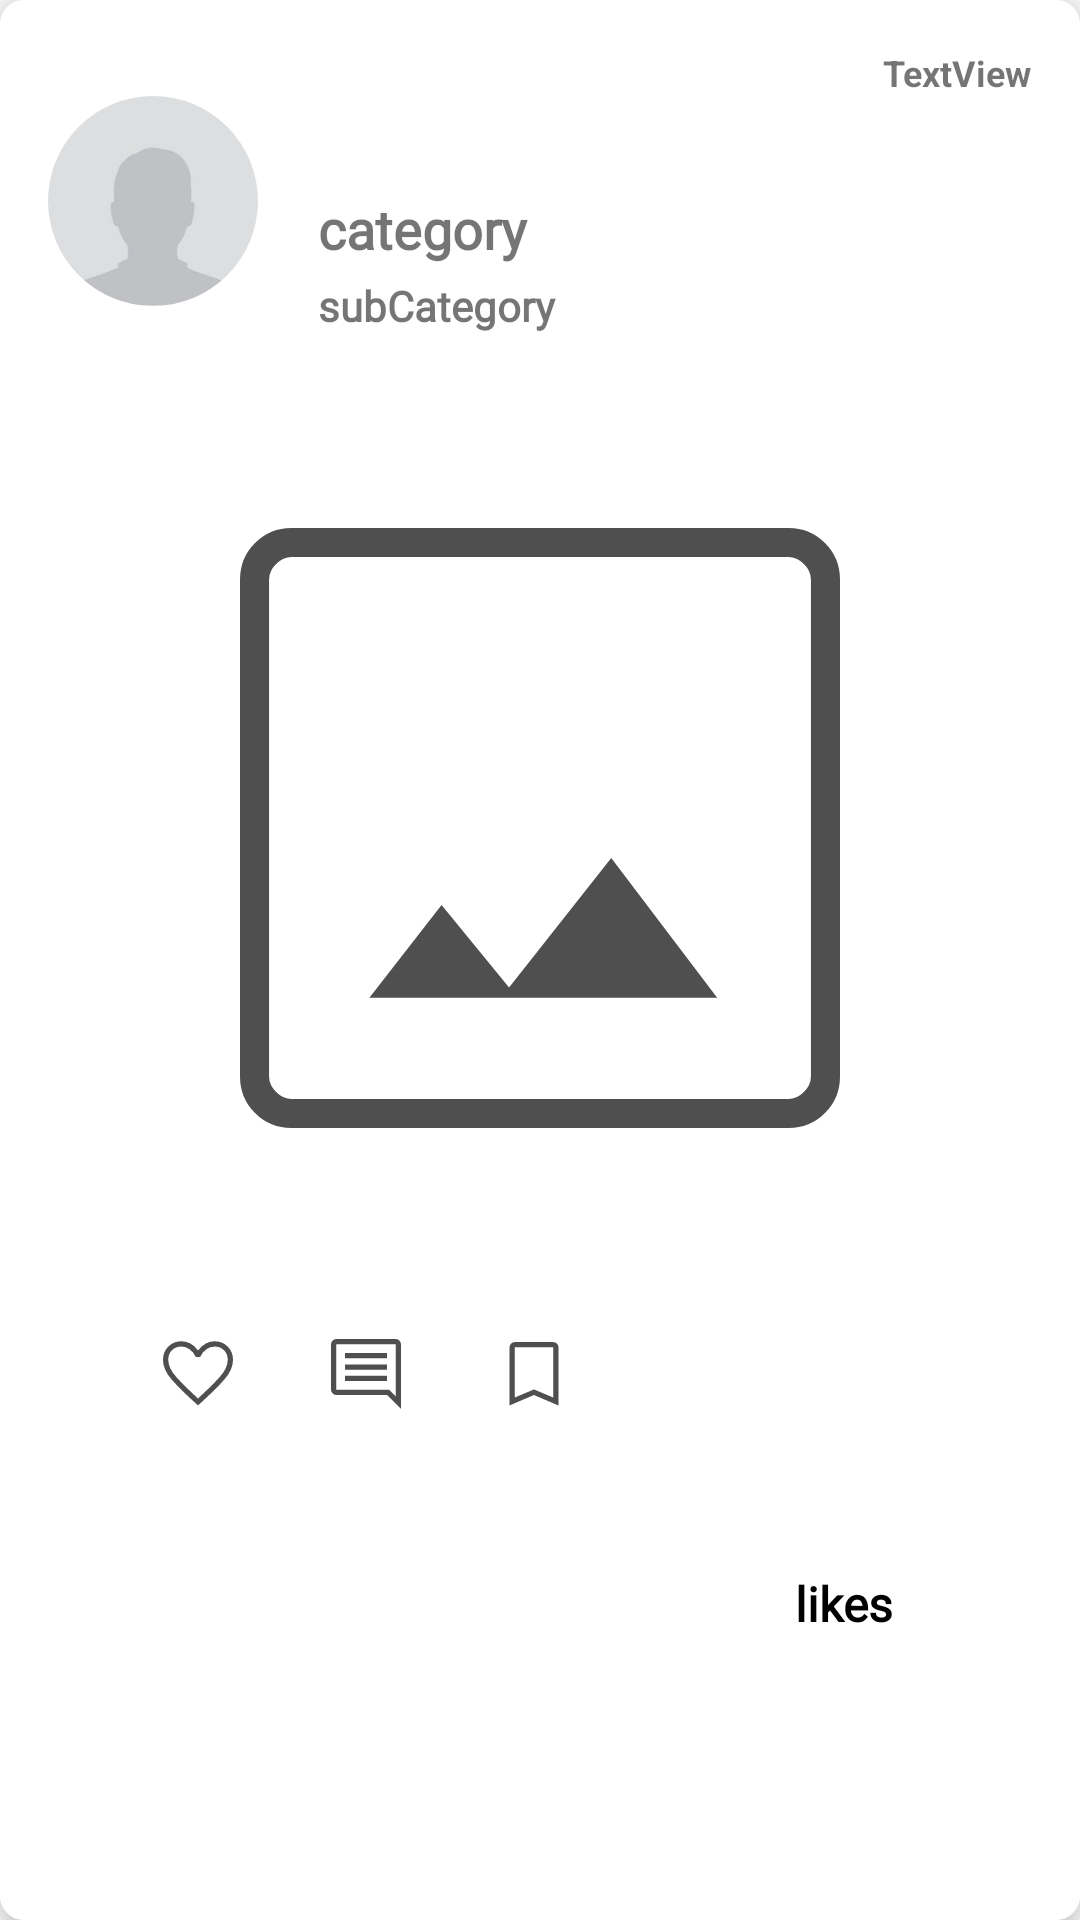

Where to tap for icons on this 1080x1920 app screen, as (x=x, y=y):
addtowishlist: (x=534, y=1374)
comment: (x=366, y=1374)
heart: (x=198, y=1373)
user: (x=153, y=201)
